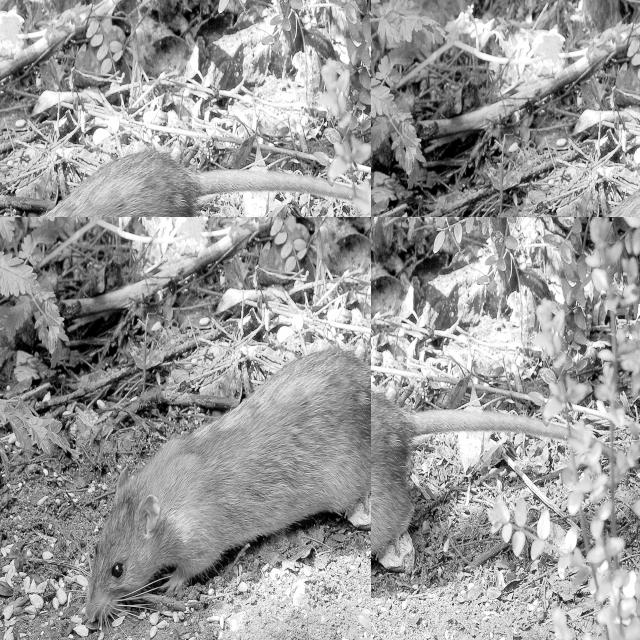rat: (82, 348, 371, 625), (370, 363, 584, 573), (32, 155, 371, 215)
